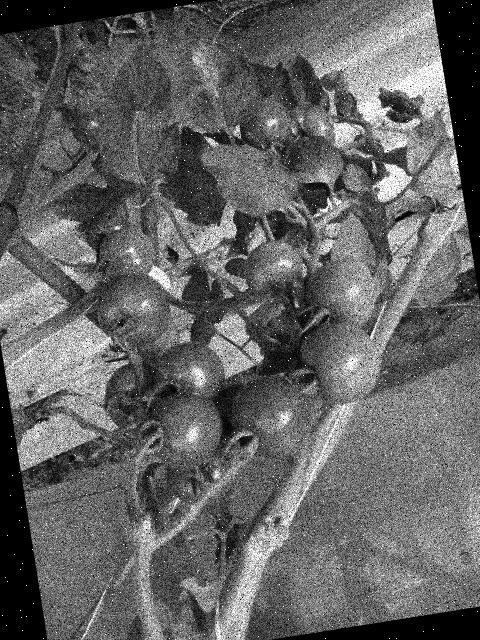l_fully_ripened: (227, 368, 319, 464), (145, 385, 229, 474), (92, 268, 176, 353), (150, 336, 229, 412), (99, 357, 171, 438), (161, 439, 241, 511), (253, 342, 322, 415), (236, 93, 295, 154), (212, 380, 256, 446), (69, 110, 103, 153)
l_green: (300, 253, 382, 336), (239, 235, 308, 302), (95, 223, 158, 282), (84, 217, 136, 254)
l_half_ripened: (295, 315, 387, 410), (272, 98, 339, 158), (119, 317, 183, 369)
